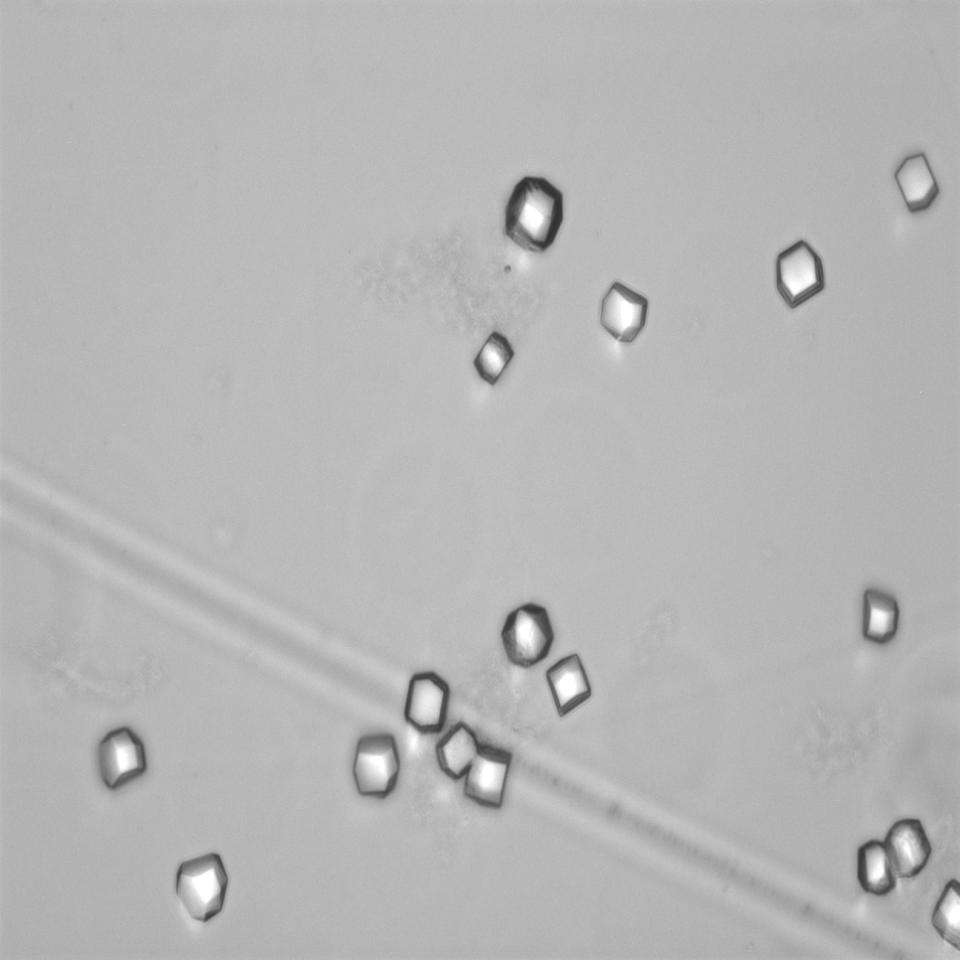crystal: (500, 176, 571, 257), (494, 588, 558, 672), (172, 848, 232, 924), (351, 734, 408, 802), (772, 240, 826, 309), (540, 651, 597, 715), (884, 813, 933, 886), (596, 279, 650, 345), (96, 725, 148, 792), (463, 740, 512, 808), (402, 668, 451, 733), (890, 150, 940, 213), (856, 837, 896, 906), (428, 722, 480, 773), (472, 330, 515, 385), (860, 586, 900, 644)
